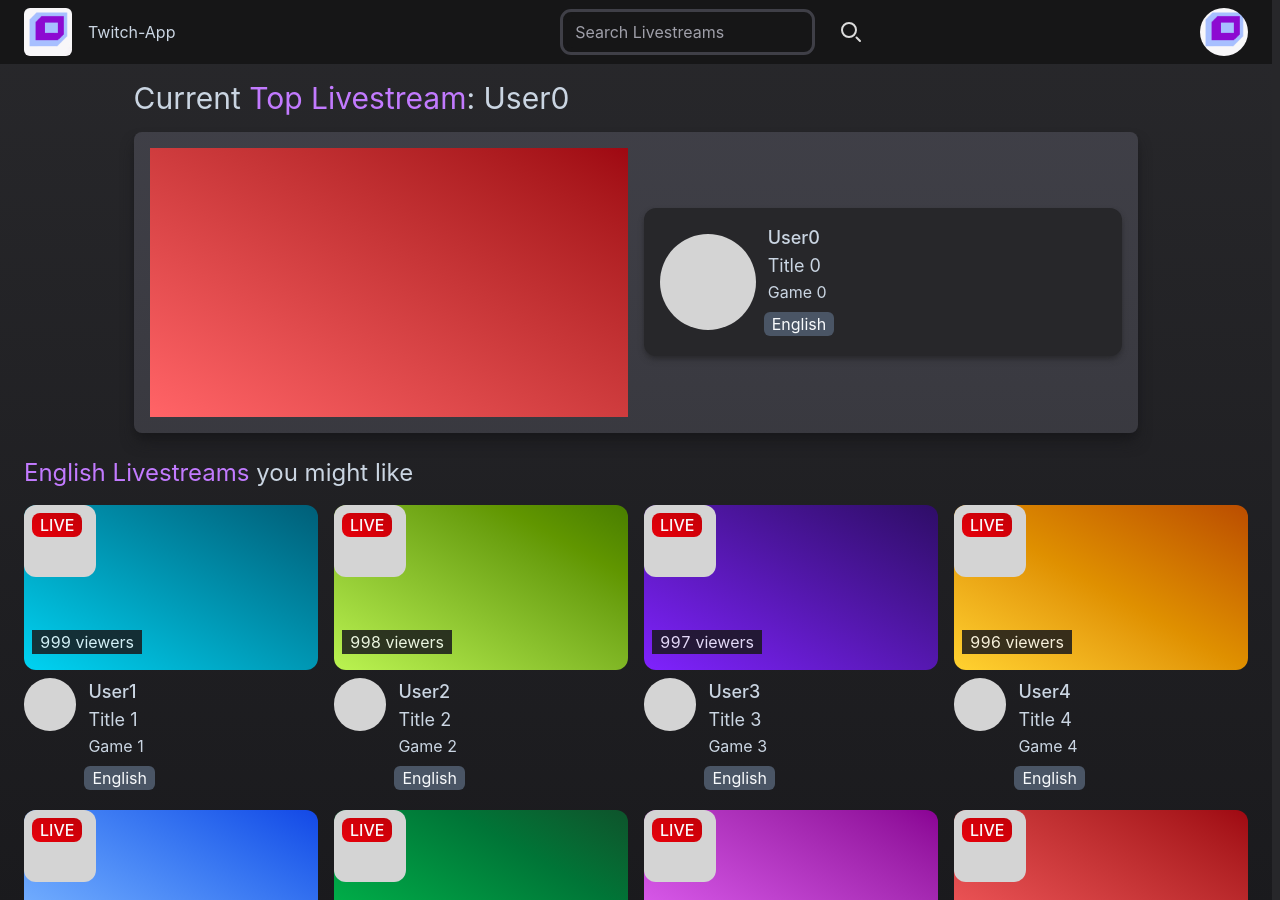
Test: App › announces the number of results when a filter is applied
Click the button with test id "streamfeed-game-3". click: x=738, y=746
box: [704,734,771,758]
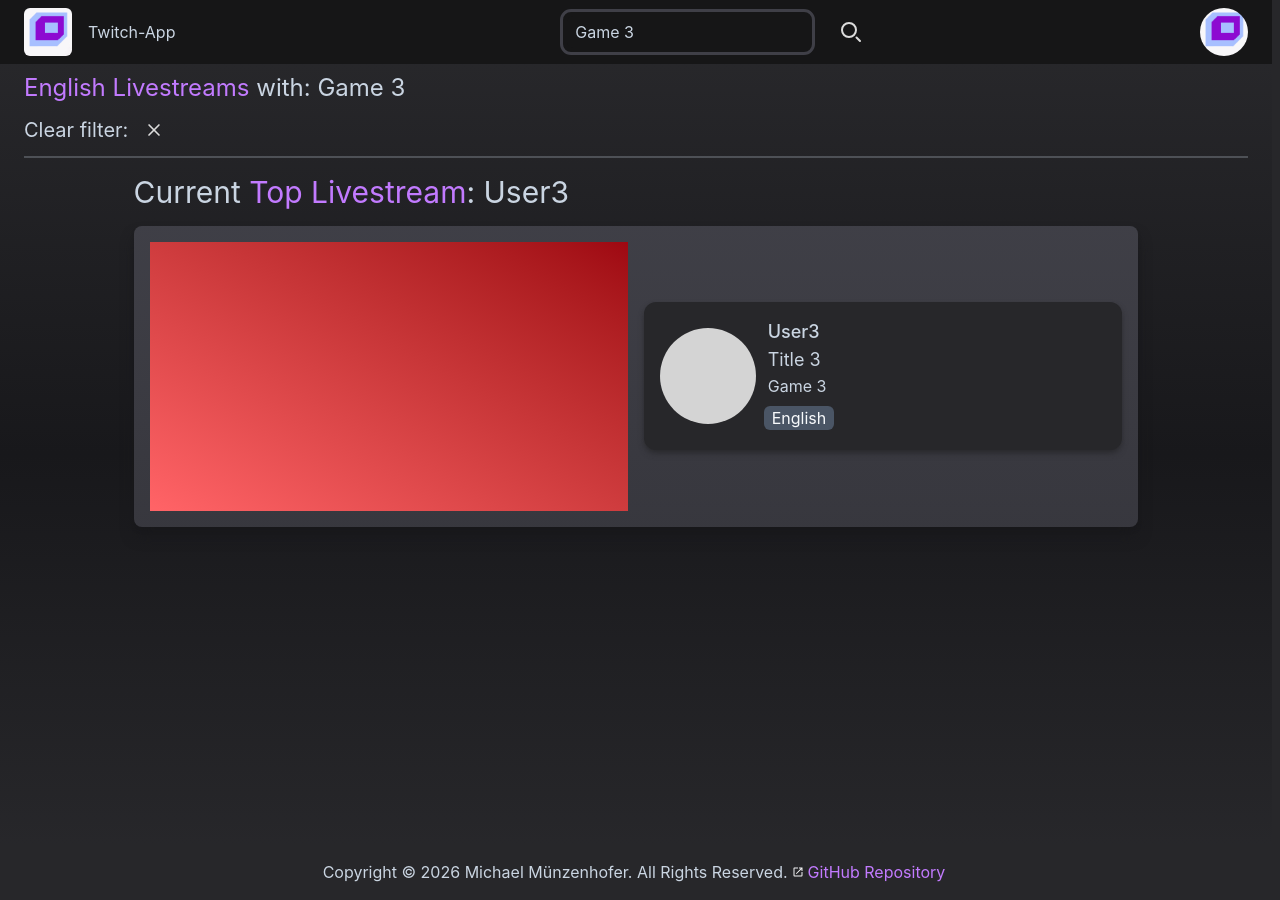
Expected: the heading "English Livestreams with: Game 3" is shown, [24,73,405,102]
